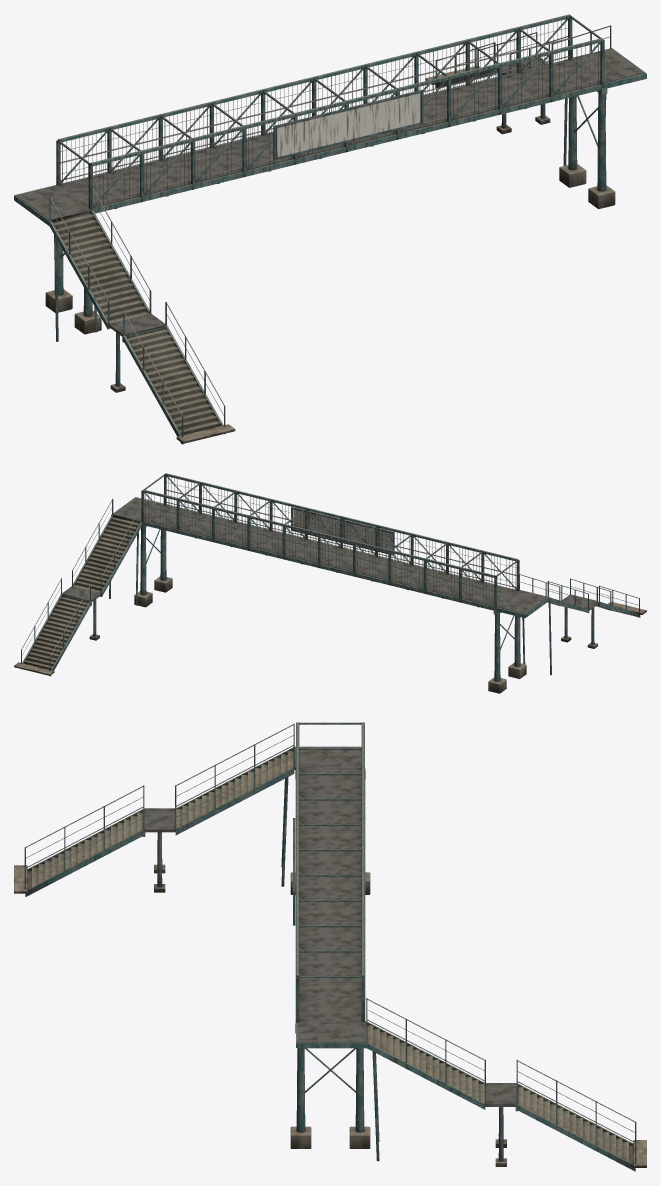
File: footbridge.glb
3 views of the same model, one above another, from view 1: azimuth 30°, elevation 25°; view 2: azimuth 150°, elevation 25°; view 3: azimuth 270°, elevation 25° (orthographic). The views are drawn at different scales.
Visible parts, largest first — view 1: body; view 2: body; view 3: body.
Part boxes in pixels (bbox=[...]): body: bbox=[14, 14, 646, 444]; body: bbox=[14, 473, 646, 693]; body: bbox=[14, 722, 646, 1171].
Size of the model in its own units: 31.3 by 8.5 by 27.88.
Materials: 1 (1 with a texture image).
